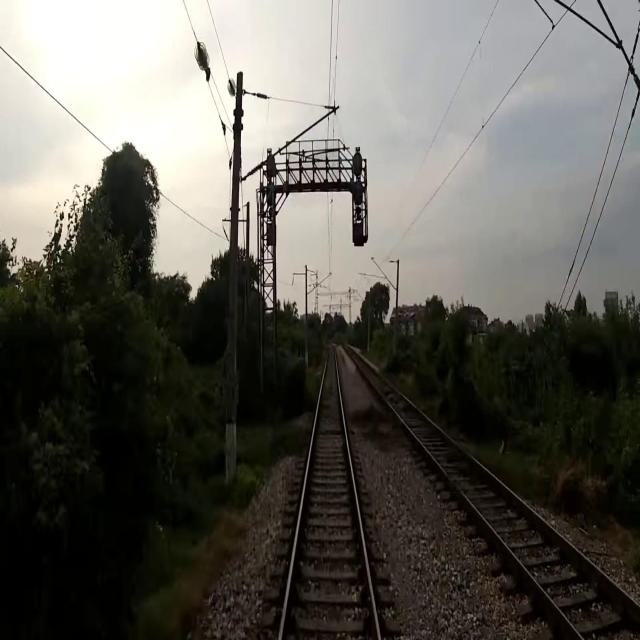rail-track: (351, 353, 640, 639), (289, 347, 370, 601)
